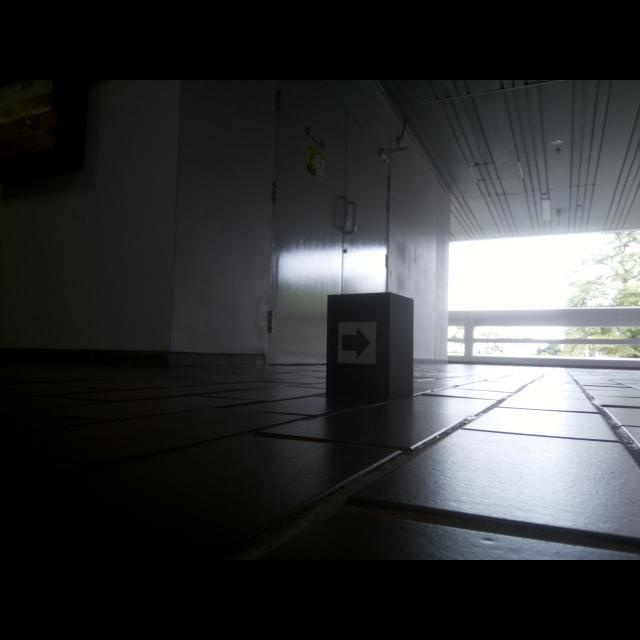RIGHT: (341, 327, 372, 360)
